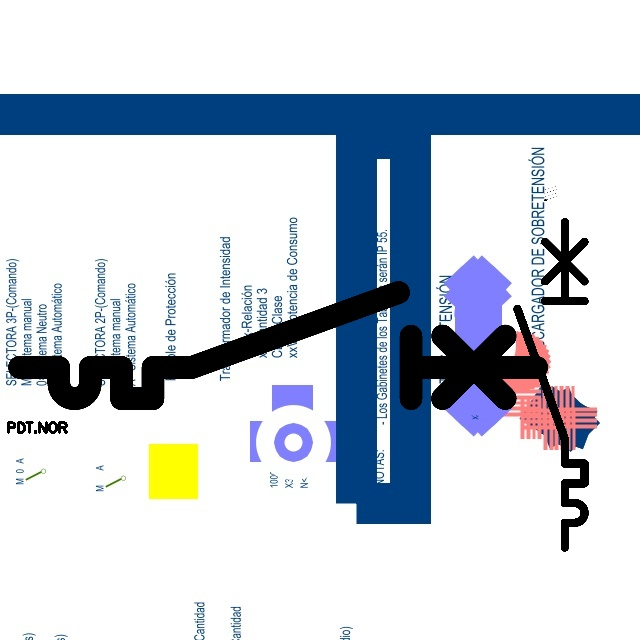interruptor_termomagnetico: (6, 279, 550, 412), (509, 213, 593, 555)
